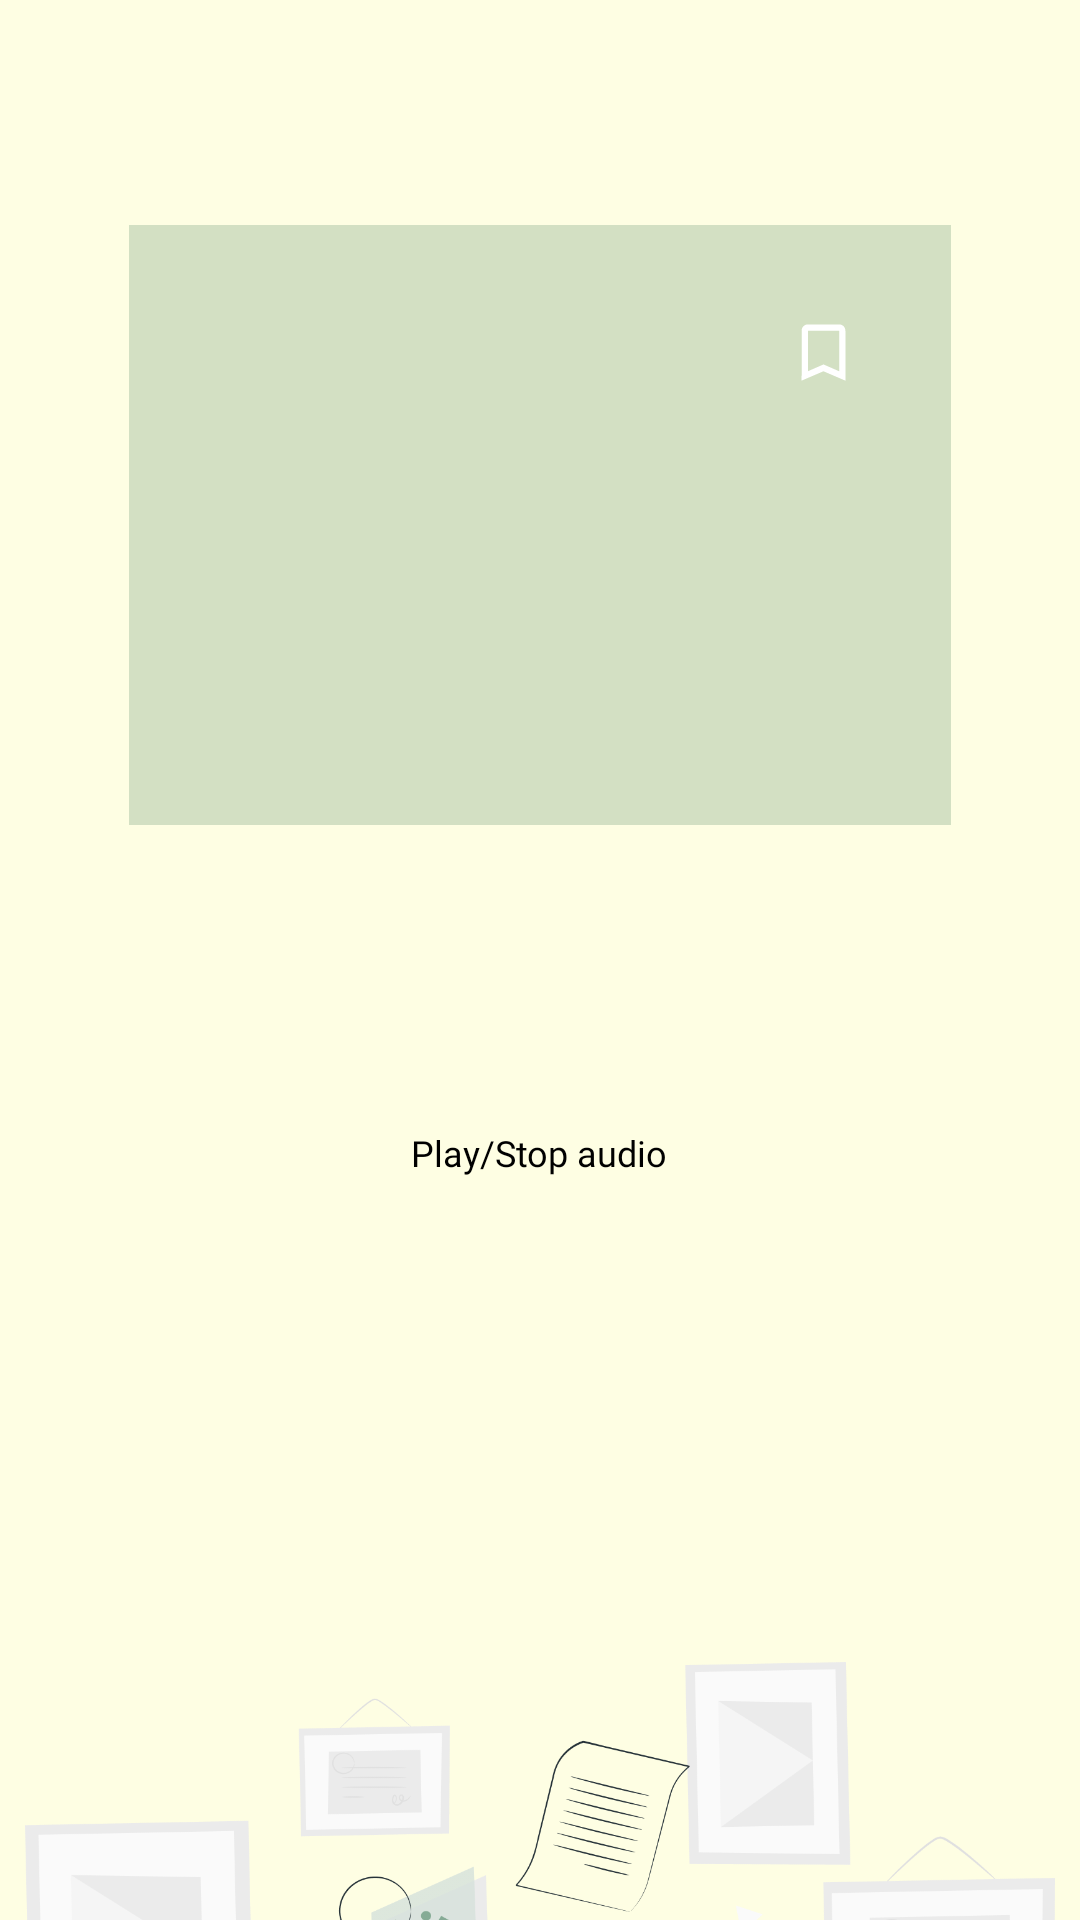

Icon click points for this 1080px×1920px phone screenshot, format point (x, y):
Save icon: point (823, 352)
